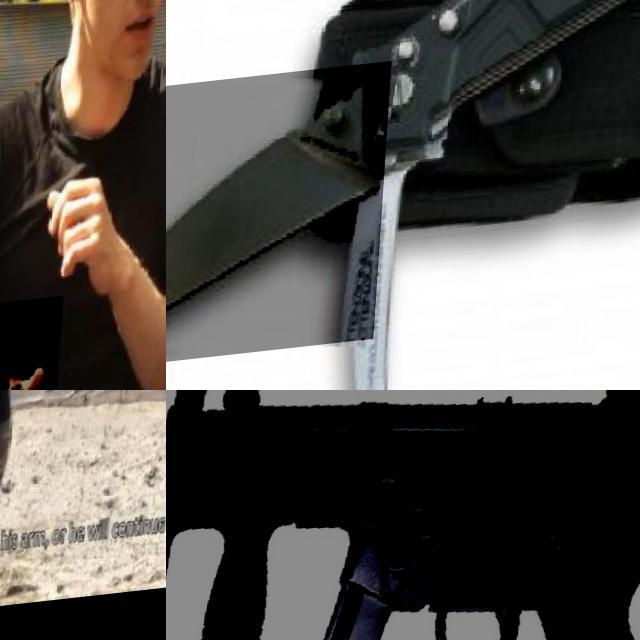-: (166, 67, 394, 369), (0, 298, 70, 390), (0, 390, 34, 438)
gun-knife-thesis - v11 Yolov5 augmented: (166, 390, 640, 640)
